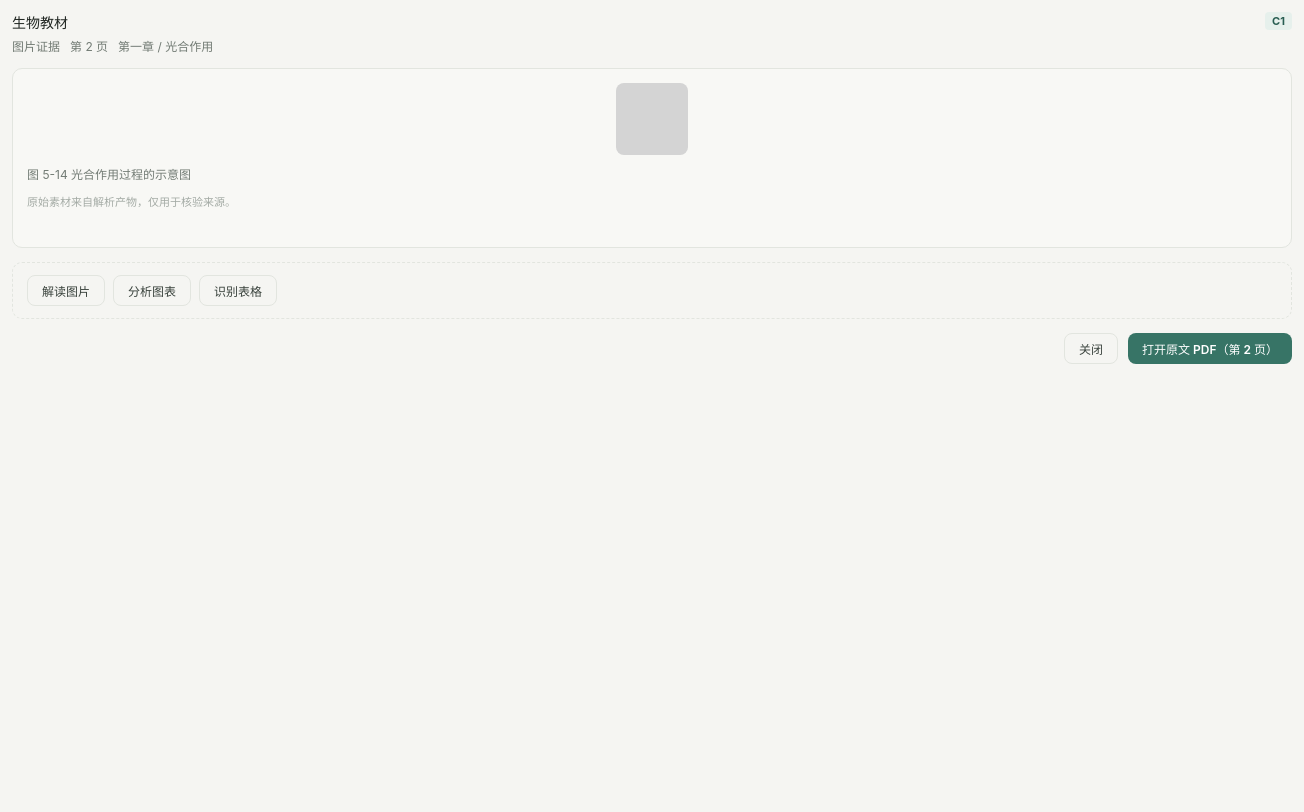
Test: AssetPreviewDialog › renders an extracted vision table as read-only rows with review warnings
Click the button "识别表格" at (238, 290), box [199,275,277,306]
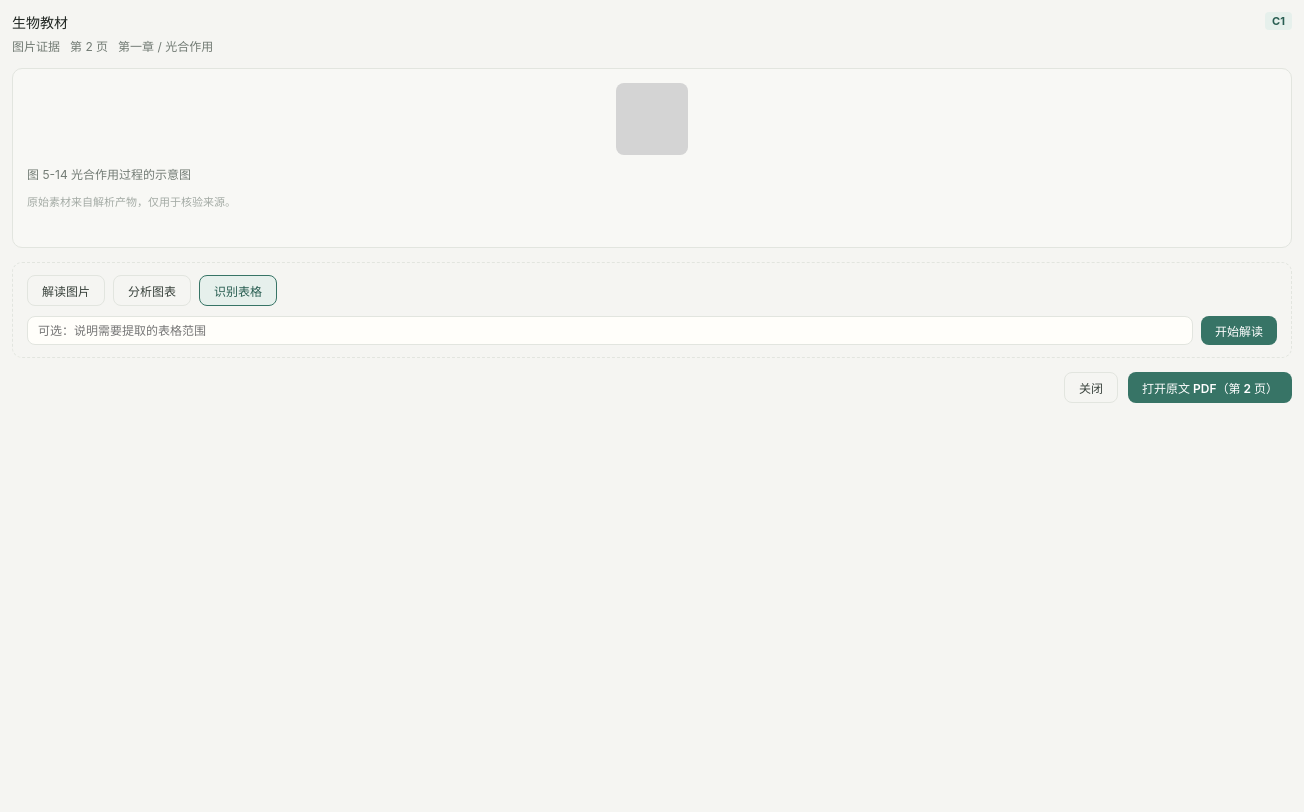
Click the button "开始解读" at (1239, 330), box [1201,316,1277,345]
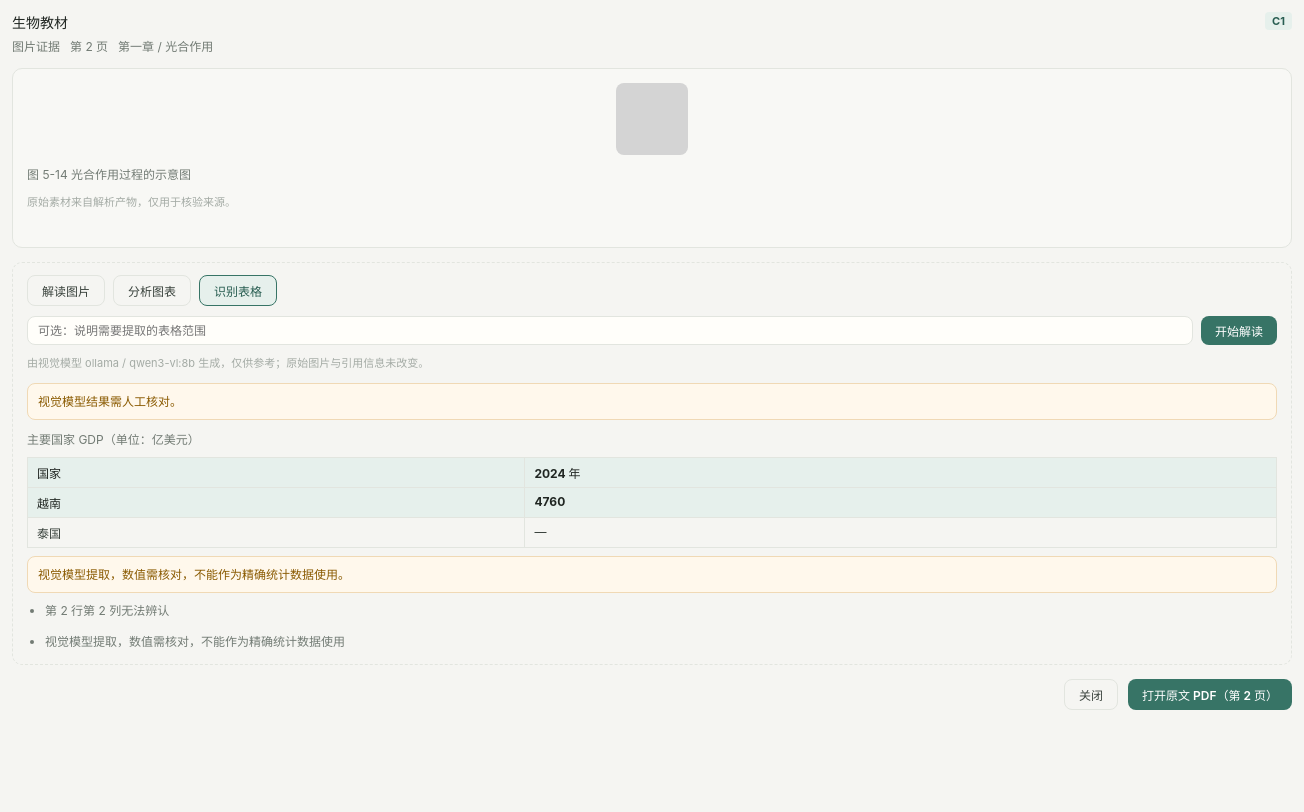
Check: the text "主要国家 GDP" is shown, box [27,432,104,447]
Check: the text "越南" is shown, box [28,488,525,518]
Check: the text "4760" is shown, box [525,488,1276,518]
